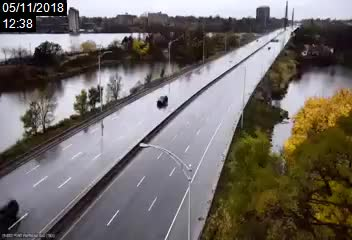personal_car: (156, 95, 169, 106)
